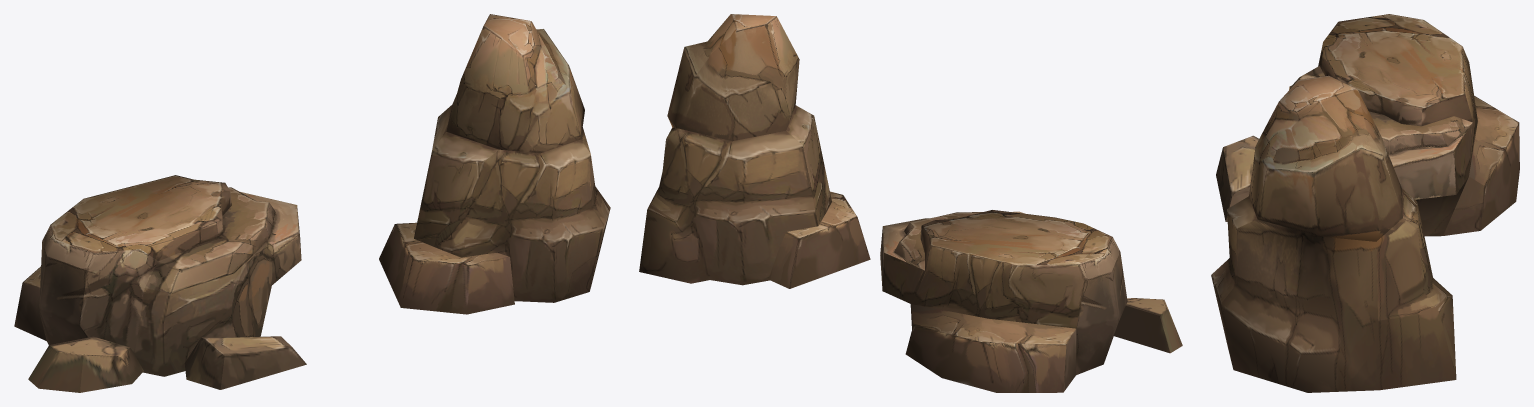
The model's file is 2_SM_Shitou_01.FBX.
3 views of the same model, side by side, from view 1: azimuth 30°, elevation 25°; view 2: azimuth 150°, elevation 25°; view 3: azimuth 270°, elevation 25° (orthographic). The views are drawn at different scales.
Parts seen in each view (by area): view 1: 2_SM_Shitou_01_02, 2_SM_Shitou_01_01, 2_SM_Shitou_01_04, 2_SM_Shitou_01_03; view 2: 2_SM_Shitou_01_02, 2_SM_Shitou_01_01, 2_SM_Shitou_01_04; view 3: 2_SM_Shitou_01_02, 2_SM_Shitou_01_01, 2_SM_Shitou_01_03.
Boxes of the visible parts, x1=… form: 2_SM_Shitou_01_02: x1=379, y1=14, x2=610, y2=314; 2_SM_Shitou_01_01: x1=14, y1=175, x2=301, y2=376; 2_SM_Shitou_01_04: x1=28, y1=336, x2=143, y2=392; 2_SM_Shitou_01_03: x1=184, y1=336, x2=306, y2=389; 2_SM_Shitou_01_02: x1=639, y1=14, x2=870, y2=288; 2_SM_Shitou_01_01: x1=880, y1=210, x2=1127, y2=392; 2_SM_Shitou_01_04: x1=1114, y1=298, x2=1182, y2=353; 2_SM_Shitou_01_02: x1=1211, y1=75, x2=1456, y2=392; 2_SM_Shitou_01_01: x1=1290, y1=14, x2=1519, y2=236; 2_SM_Shitou_01_03: x1=1216, y1=135, x2=1258, y2=221.
Size of the model in its own units: 1703 by 736 by 760.
Materials: 1 (1 with a texture image).
